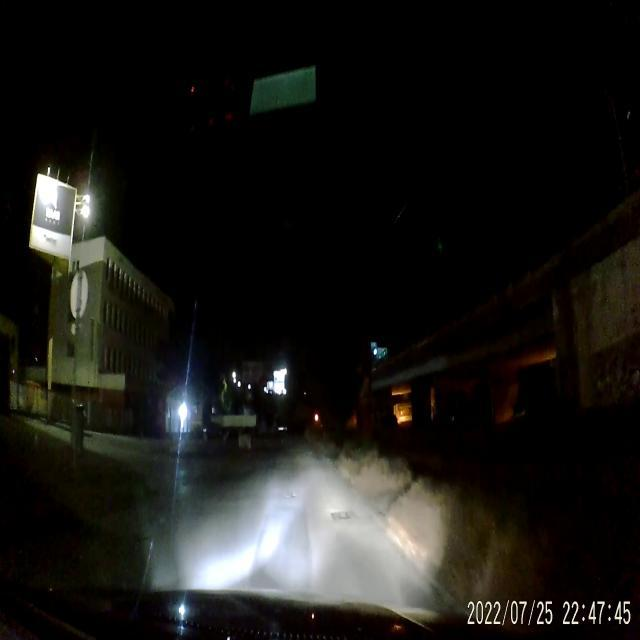Manhole: (326, 506, 358, 526)
